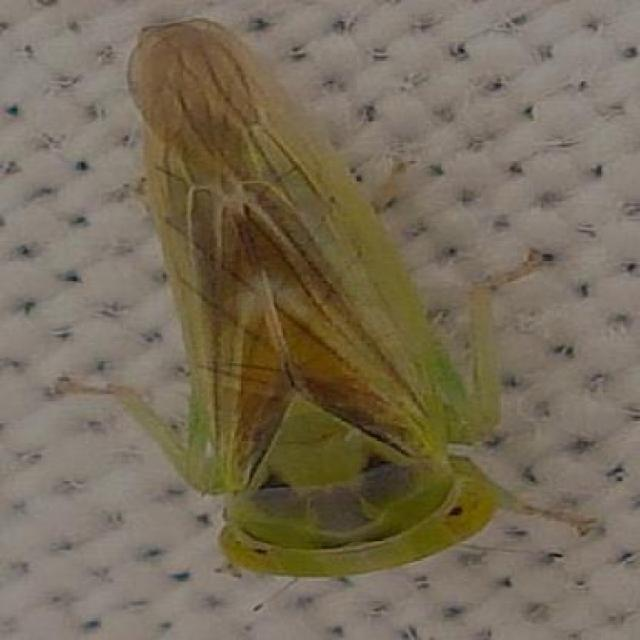green-leafhopper: (124, 25, 534, 572)
